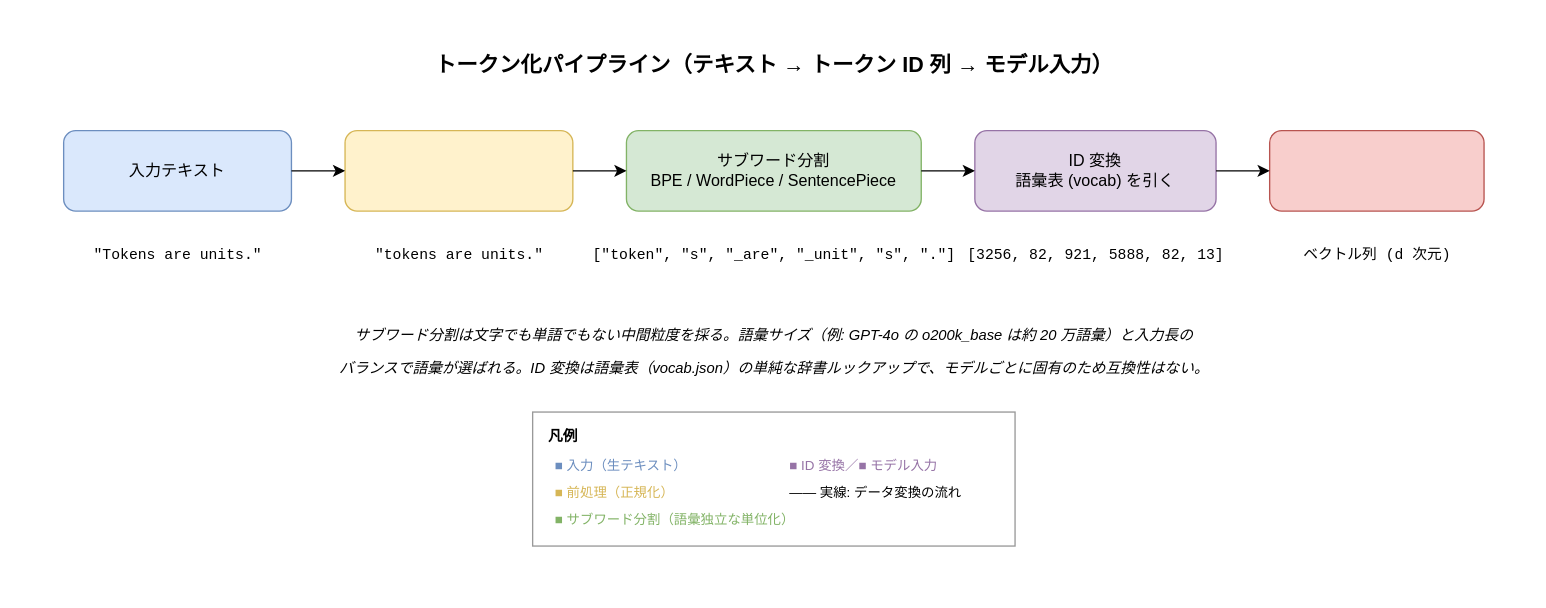
Some shapes in this 1546 by 608 pixel diagram are drawn without their labels. Each missing label, with the centre of its shape:
"モデル入力 Embedding 層へ" belongs at [1376,170].
"正規化 Unicode NFC / 大小文字" belongs at [458,170].
